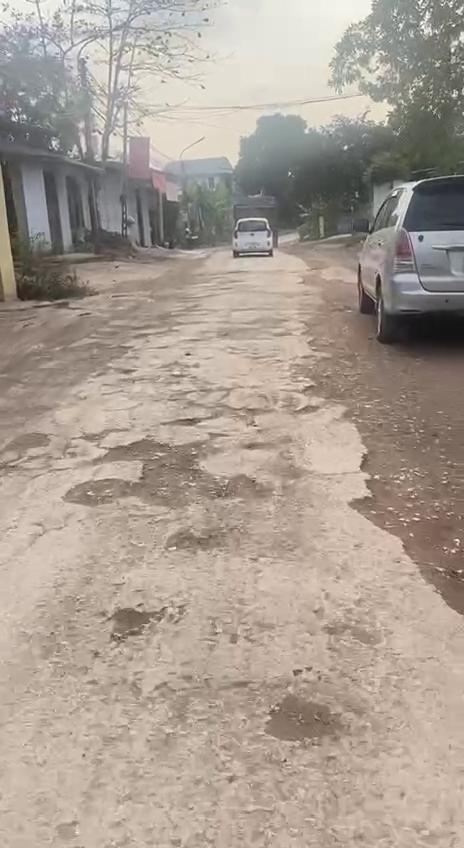pothole: (351, 445, 464, 612), (60, 439, 270, 510), (256, 688, 340, 740), (290, 366, 375, 404), (164, 522, 239, 558), (0, 430, 51, 479), (101, 602, 156, 646), (163, 412, 210, 430)
